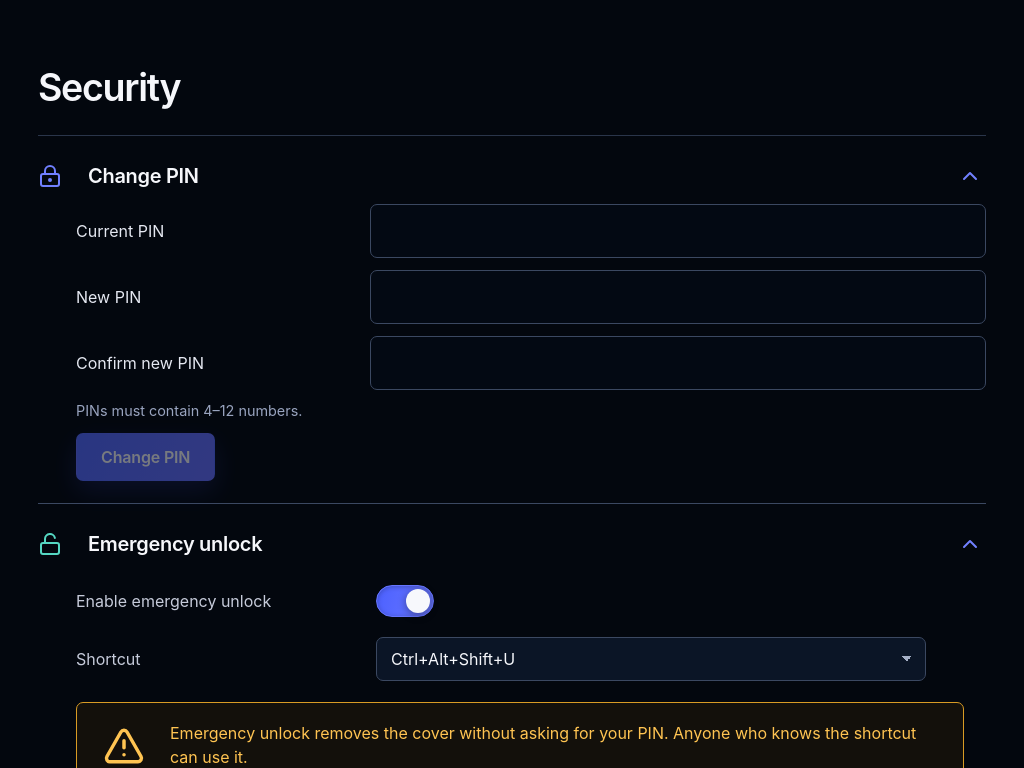
Scenario: security settings › traps focus, closes on Escape, and restores focus to the invoking control
Click the switch named "Enable emergency unlock": (405, 601) [376, 585, 434, 617]
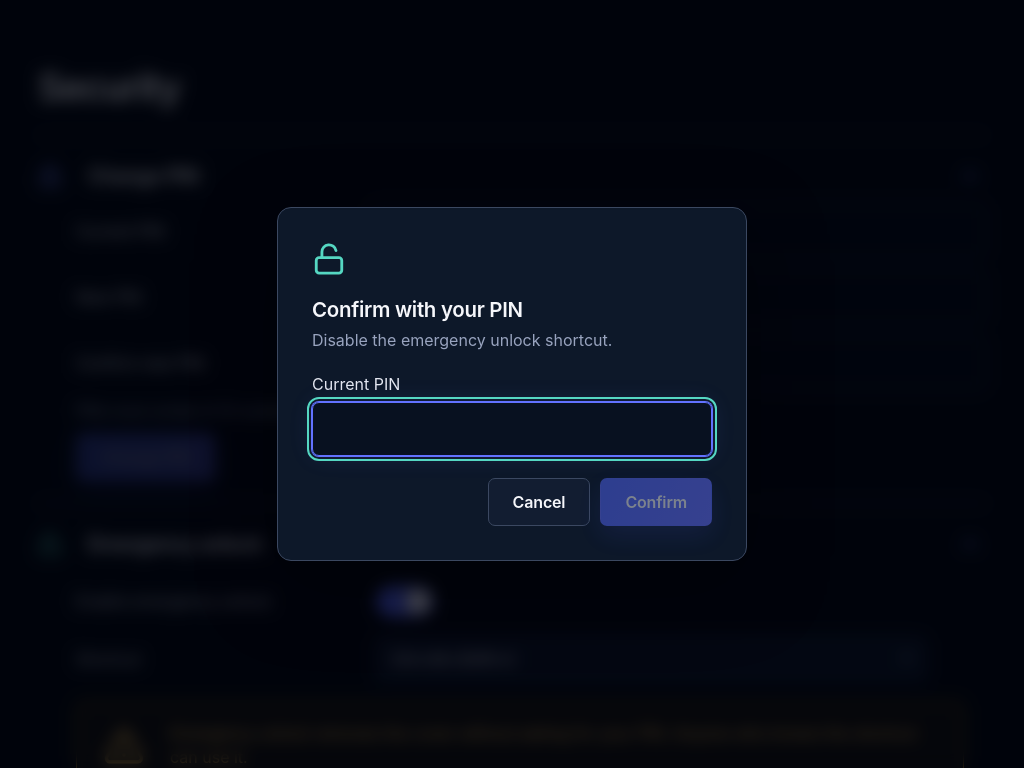
Press Tab
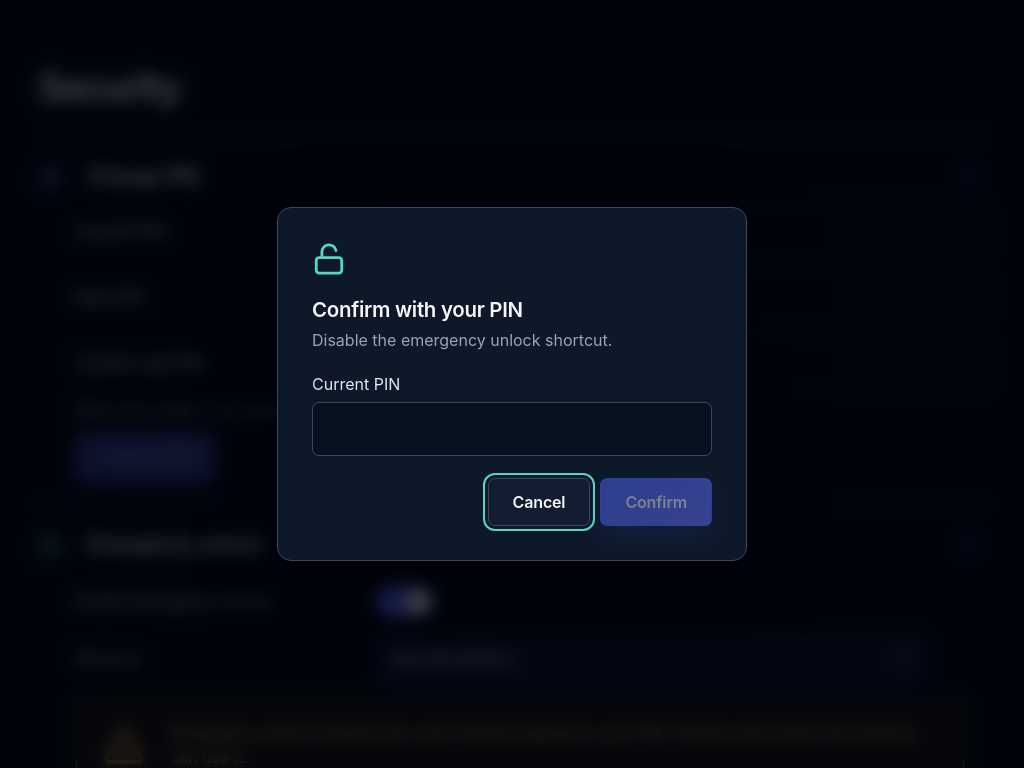
Press Tab
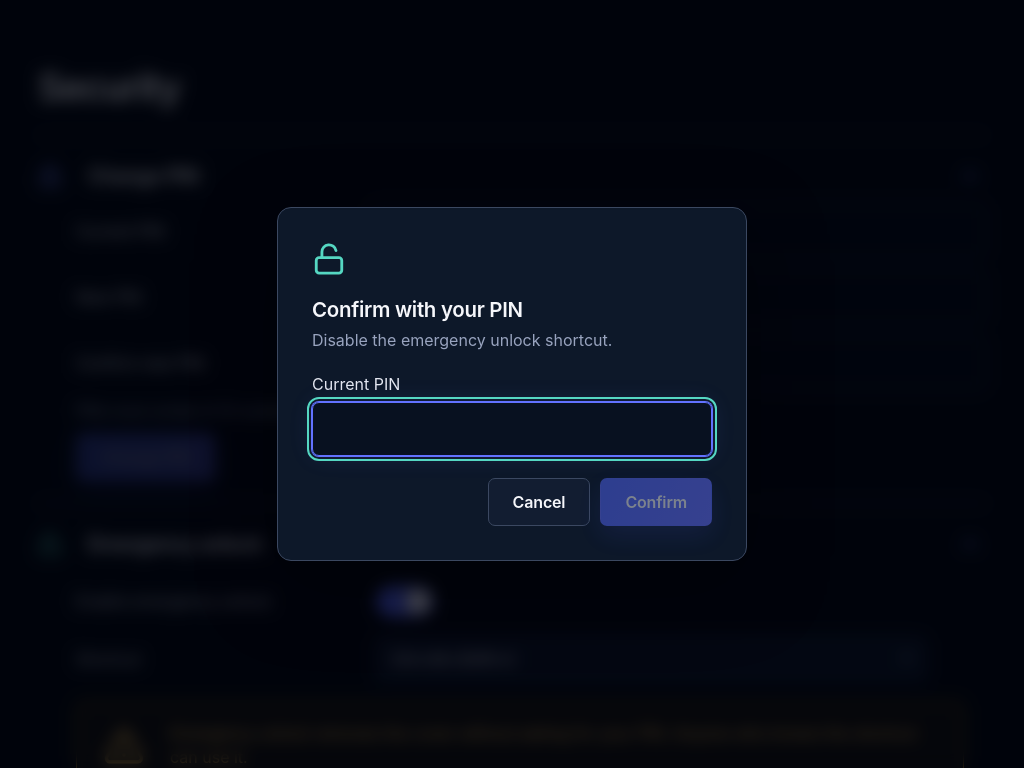
Press Escape
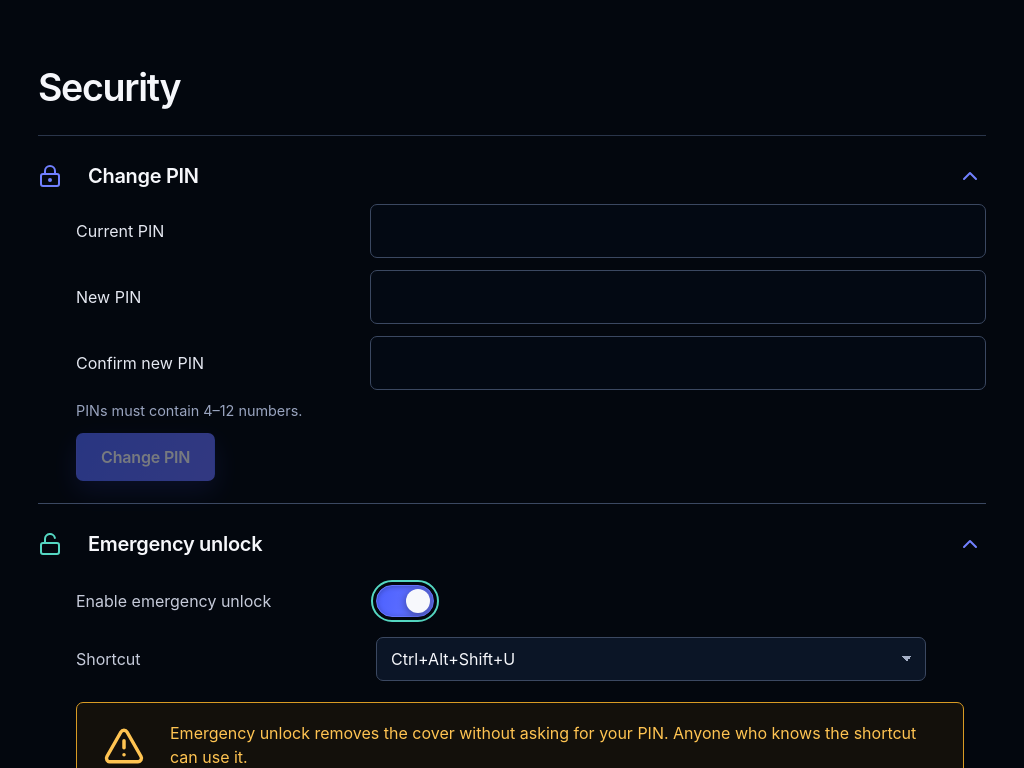
Check: the dialog is gone
